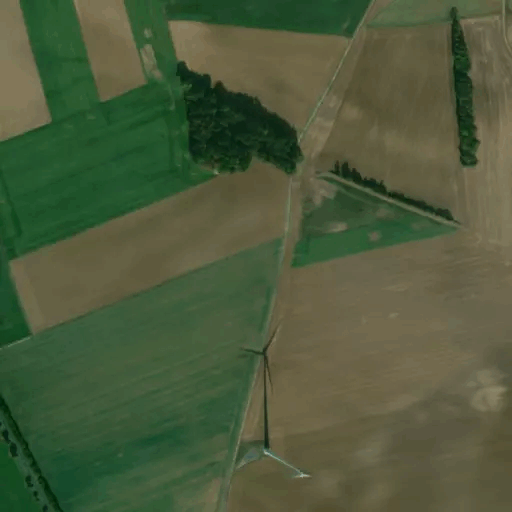wt: (228, 311, 322, 482)
